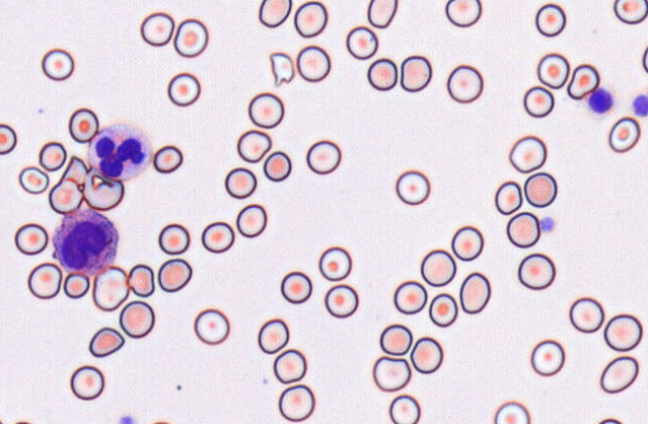GRAN: (52, 207, 116, 274), (87, 121, 153, 181)
PLT: (588, 88, 616, 116), (630, 92, 648, 118), (538, 216, 557, 234)
RBC: (92, 266, 129, 311), (599, 355, 639, 393), (603, 313, 642, 351), (517, 252, 555, 290), (508, 135, 546, 173), (446, 64, 483, 103), (372, 355, 411, 391), (278, 384, 315, 421), (173, 18, 208, 57), (459, 271, 490, 314), (420, 249, 456, 286), (193, 308, 229, 345), (247, 92, 284, 128), (119, 300, 154, 338), (27, 262, 62, 299), (530, 339, 565, 376), (569, 296, 604, 333), (48, 178, 83, 214), (395, 169, 430, 205), (293, 0, 327, 37), (296, 45, 330, 82), (506, 211, 540, 248), (69, 365, 104, 400), (306, 139, 341, 174), (410, 336, 443, 373), (536, 52, 569, 89), (157, 258, 192, 292), (523, 172, 557, 207), (140, 11, 174, 46), (324, 283, 358, 318), (393, 280, 427, 314), (236, 129, 271, 162), (273, 348, 306, 383), (318, 246, 351, 281), (257, 318, 289, 354), (451, 225, 483, 261), (608, 116, 640, 152), (400, 55, 431, 92), (14, 222, 48, 255), (345, 25, 378, 59), (167, 72, 200, 106), (88, 326, 124, 357), (379, 323, 412, 355), (201, 221, 234, 253), (41, 48, 74, 80), (236, 203, 267, 237), (535, 3, 566, 37), (68, 107, 98, 142), (280, 271, 312, 303), (428, 293, 458, 327), (158, 223, 190, 254), (224, 167, 256, 198), (523, 85, 554, 117), (367, 57, 397, 90), (445, 0, 481, 27), (388, 394, 420, 424), (494, 180, 522, 214), (127, 263, 154, 297), (18, 165, 49, 194), (258, 0, 291, 27), (38, 141, 67, 171), (153, 144, 183, 173), (263, 150, 291, 181), (493, 400, 530, 423), (367, 0, 397, 28), (613, 0, 648, 24), (63, 272, 89, 298), (0, 123, 17, 154), (642, 45, 648, 73), (597, 417, 623, 423), (148, 420, 172, 424), (12, 420, 33, 424)
Schistocyte: (82, 167, 124, 209), (568, 64, 600, 99), (269, 52, 296, 88), (62, 155, 88, 188)
